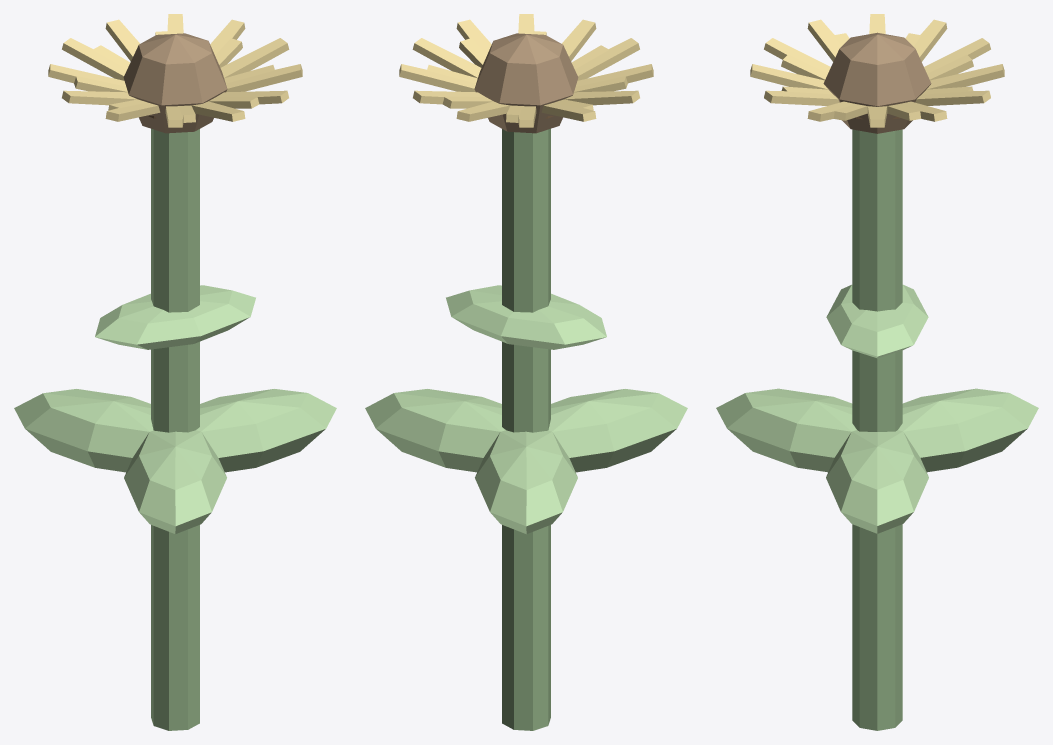
The model's file is sunflower.glb.
3 renders of one model, left to right at view 1: azimuth 30°, elevation 25°; view 2: azimuth 150°, elevation 25°; view 3: azimuth 270°, elevation 25°, orthographic.
Visible parts, largest first — view 1: foliage, stem, flower, fruit; view 2: foliage, stem, flower, fruit; view 3: foliage, stem, flower, fruit.
Boxes of the visible parts, box(x1,y1,x2,y2) form: foliage: box(14, 285, 336, 534); stem: box(151, 128, 199, 730); flower: box(48, 14, 302, 127); fruit: box(123, 33, 227, 133); foliage: box(365, 285, 687, 534); stem: box(502, 128, 550, 730); flower: box(399, 14, 653, 127); fruit: box(474, 33, 578, 133); foliage: box(716, 284, 1038, 533); stem: box(852, 129, 902, 730); flower: box(750, 14, 1004, 127); fruit: box(823, 32, 931, 133).
Size of the model in its own units: 0.4371 by 1.05 by 0.4502.
